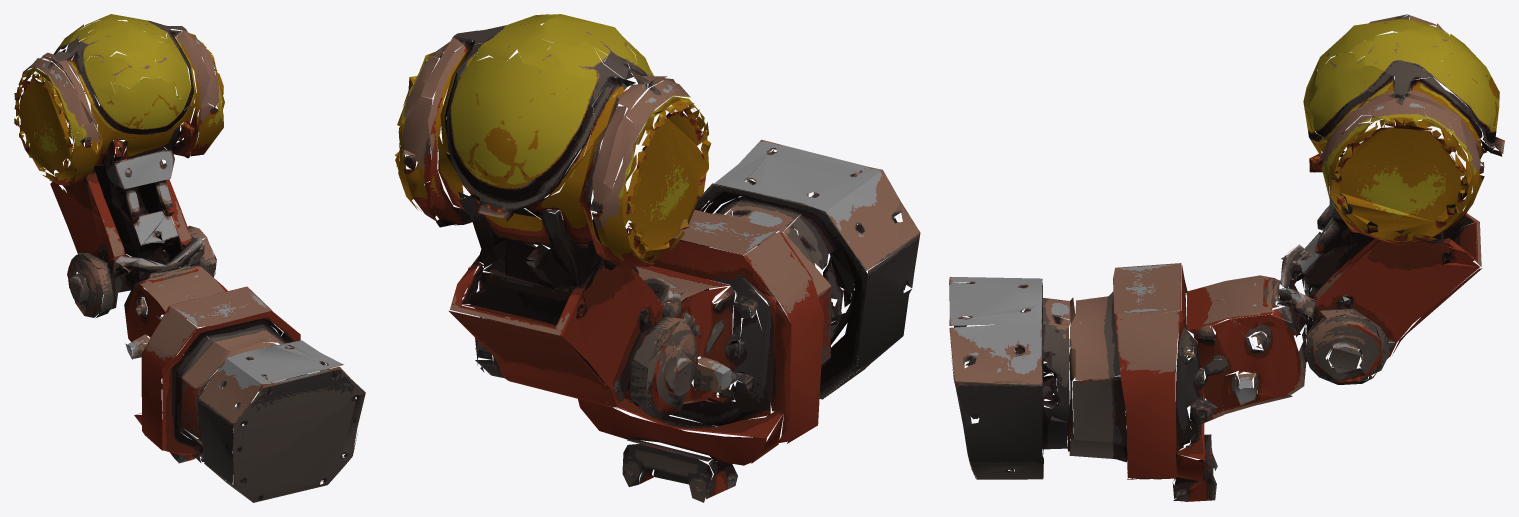
File: ar_hammer.glb
The picture shows the model from 3 angles, left to right: view 1: azimuth 30°, elevation 25°; view 2: azimuth 150°, elevation 25°; view 3: azimuth 270°, elevation 25°; orthographic projection. The views are drawn at different scales.
Parts seen in each view (by area): view 1: ar_hammer; view 2: ar_hammer; view 3: ar_hammer.
Boxes of the visible parts, x1=… form: ar_hammer: x1=14, y1=14, x2=365, y2=502; ar_hammer: x1=394, y1=14, x2=920, y2=502; ar_hammer: x1=949, y1=14, x2=1504, y2=501.
Size of the model in its own units: 0.1773 by 0.3833 by 0.42.
1 material, 1 textured.
